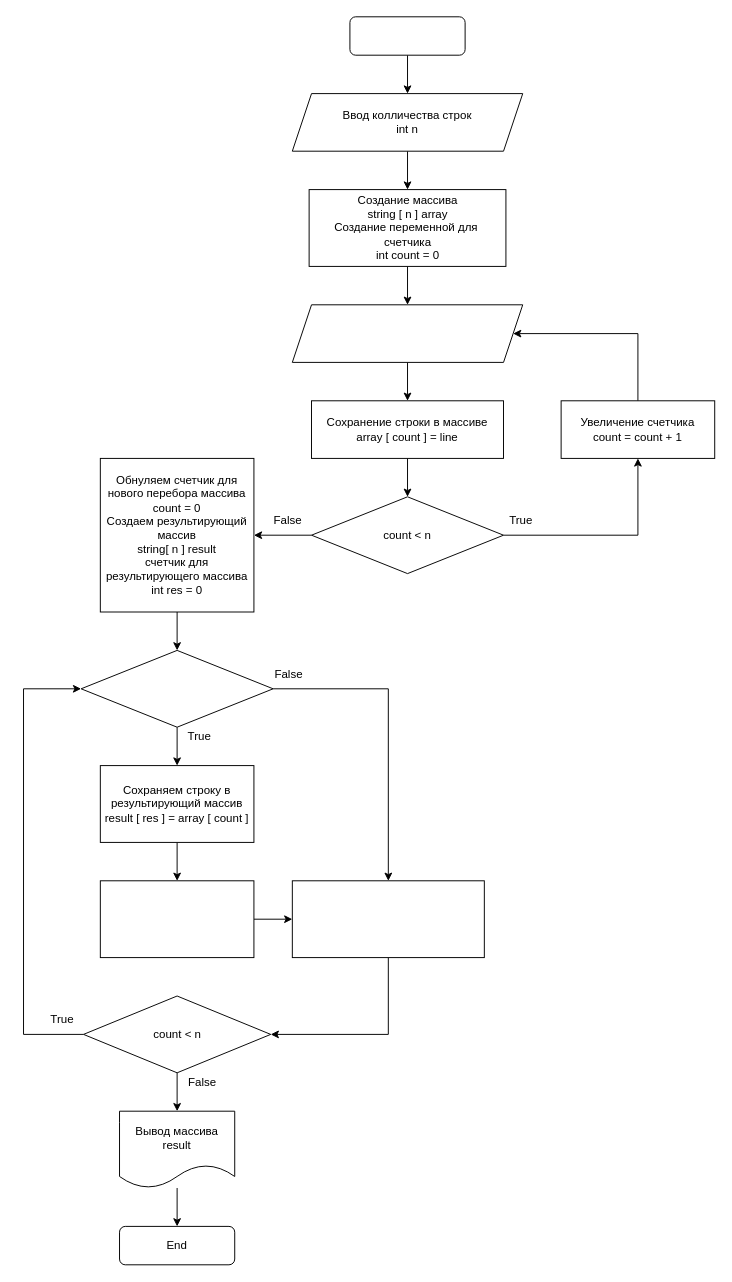
Some shapes in this 732 by 1282 pixel diagram are drawn without their labels. The centre of each missing label's shape, as x and y in pixels:
array [ count ].length <= 3: (x=176, y=688)
Start: (x=407, y=35)
Ввод строки string line: (x=407, y=333)
Увеличиваем счетчик count = count + 1: (x=387, y=919)
Увеличиваем счетчик res = res +1: (x=176, y=919)
